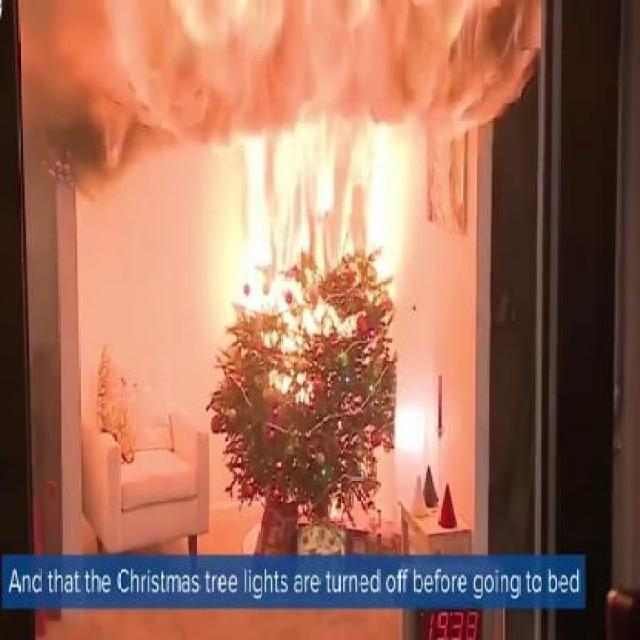fire: (237, 119, 397, 304)
smoke: (19, 0, 535, 188)
